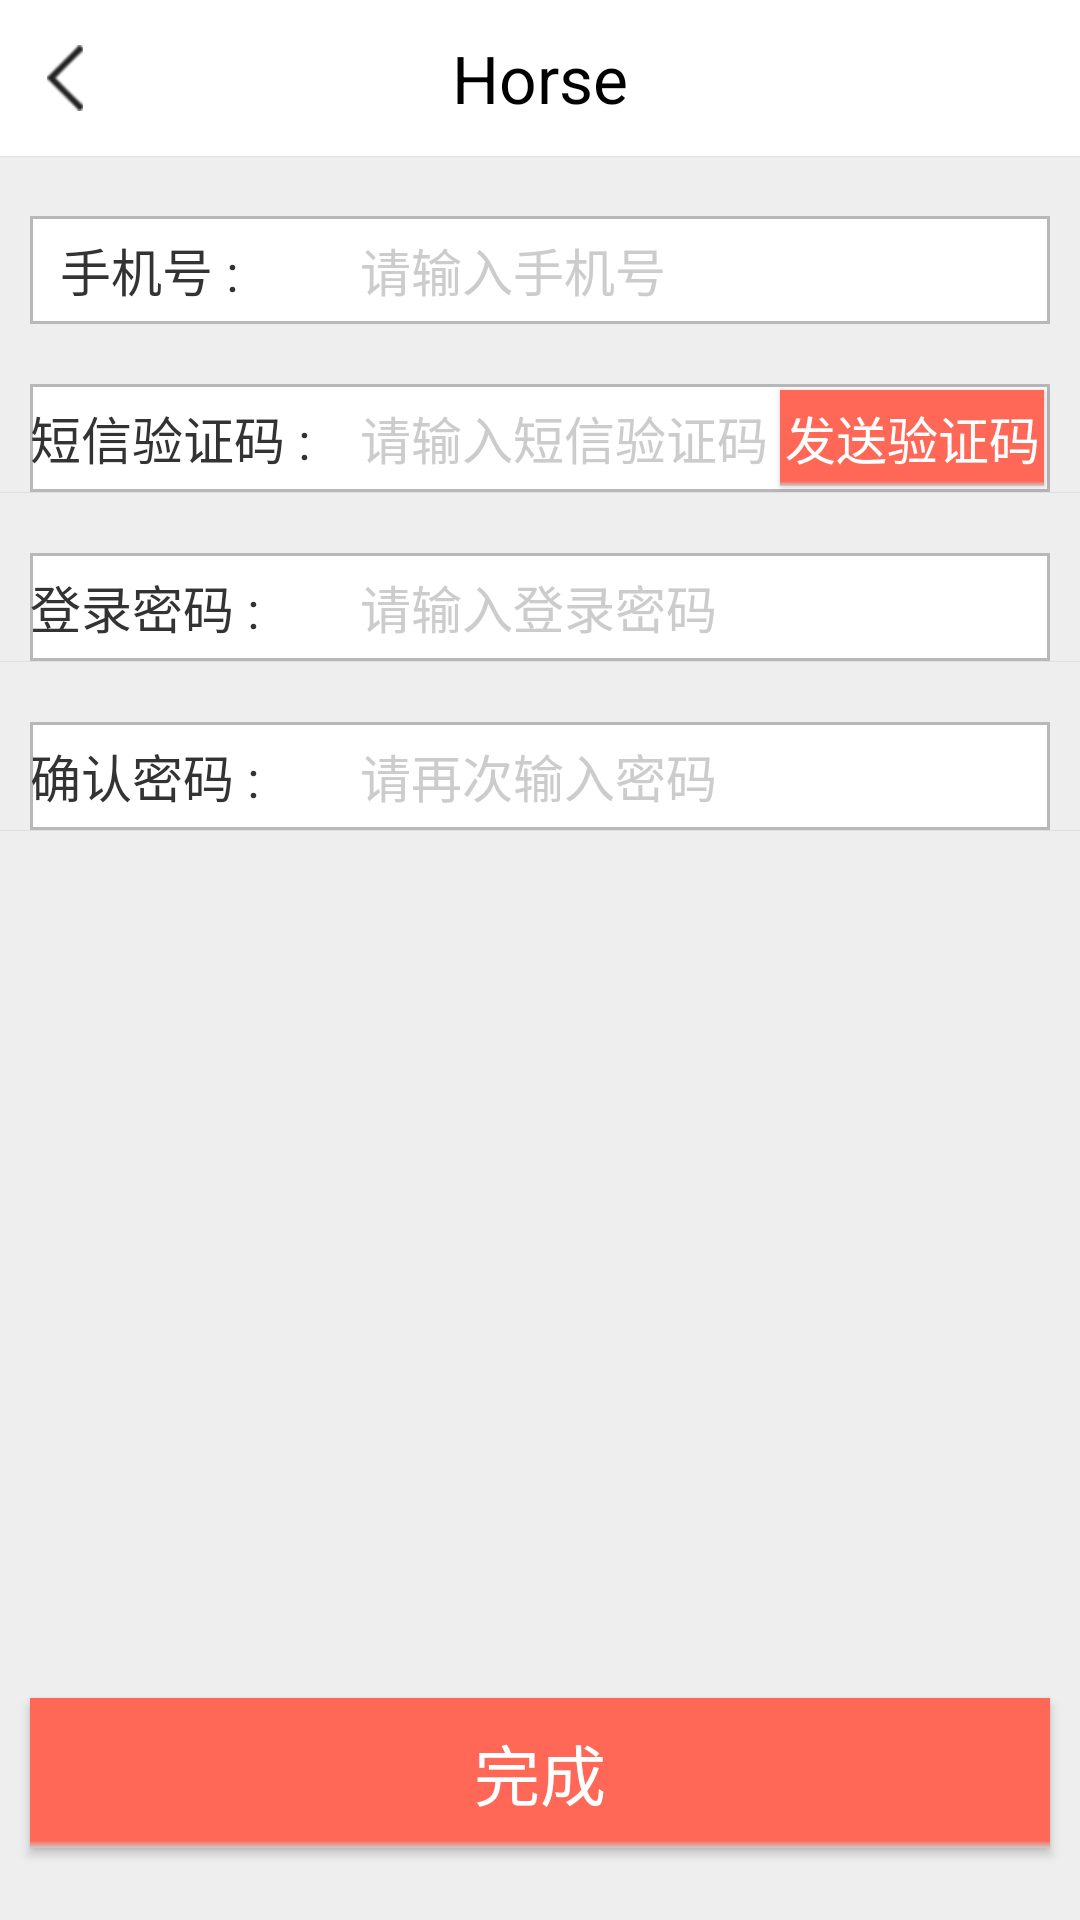

Point at icon controls on the screen. Image size 1080px x 1920px, points as point (x, y).
back focus weex: point (65, 78)
